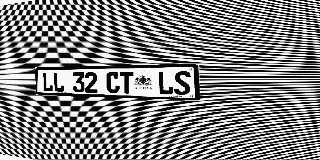plate: (35, 64, 199, 101)
